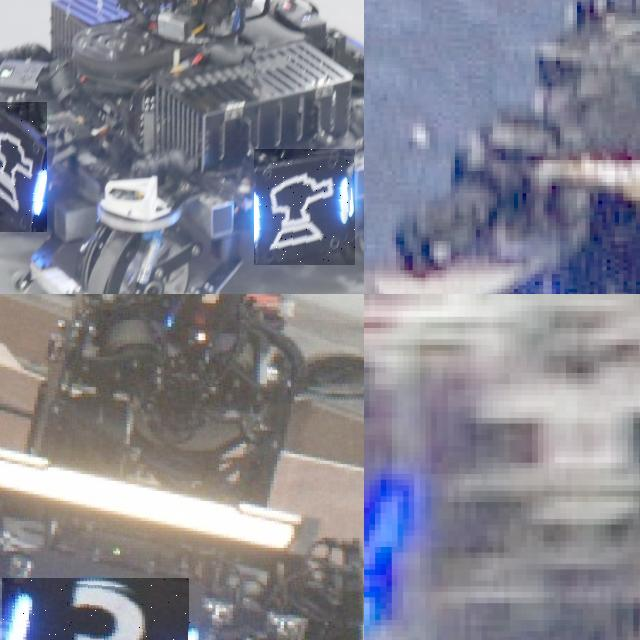B3: (2, 578, 190, 640)
Bs: (255, 149, 356, 265), (0, 102, 47, 232)
